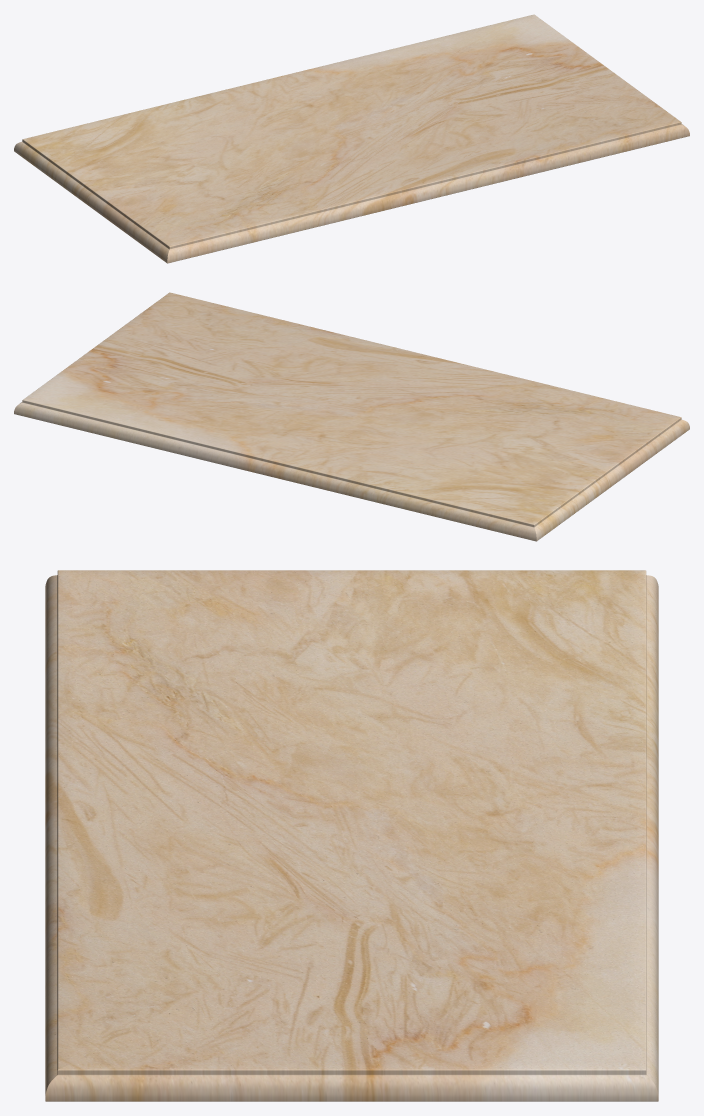
The model's file is top.obj.
3 views of the same model, one above another, from view 1: azimuth 30°, elevation 25°; view 2: azimuth 150°, elevation 25°; view 3: azimuth 270°, elevation 25° (orthographic). The views are drawn at different scales.
Visible parts, largest first — view 1: Rectangle031 STOL001; view 2: Rectangle031 STOL001; view 3: Rectangle031 STOL001.
Boxes of the visible parts, x1=… form: Rectangle031 STOL001: x1=14, y1=14, x2=689, y2=263; Rectangle031 STOL001: x1=14, y1=292, x2=689, y2=541; Rectangle031 STOL001: x1=45, y1=570, x2=658, y2=1101.
Bounding box in the file's own units: 122 × 3 × 61.98.
1 material, 1 textured.
